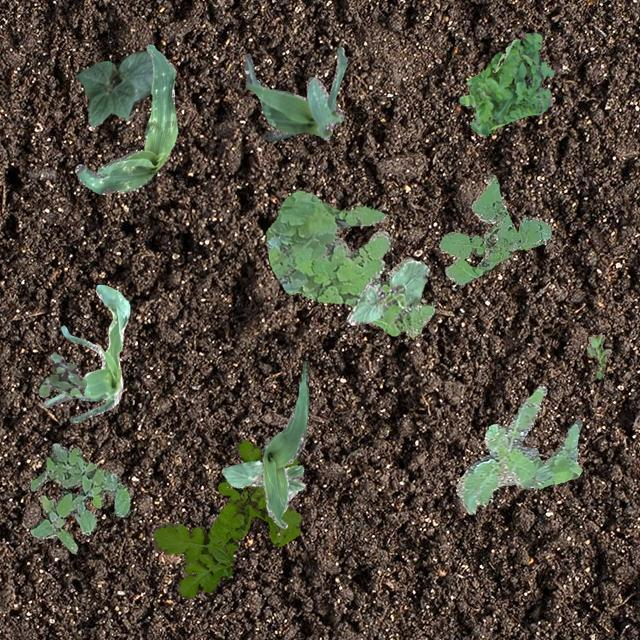crop: (75, 43, 176, 194), (42, 284, 128, 422), (242, 44, 346, 140), (260, 360, 308, 528), (74, 50, 152, 126), (346, 260, 428, 324), (220, 459, 304, 498)
weed: (264, 190, 433, 336), (152, 438, 300, 598), (454, 384, 580, 512), (438, 174, 550, 284), (29, 442, 130, 552), (458, 30, 552, 134), (38, 352, 86, 398), (586, 332, 610, 378)
